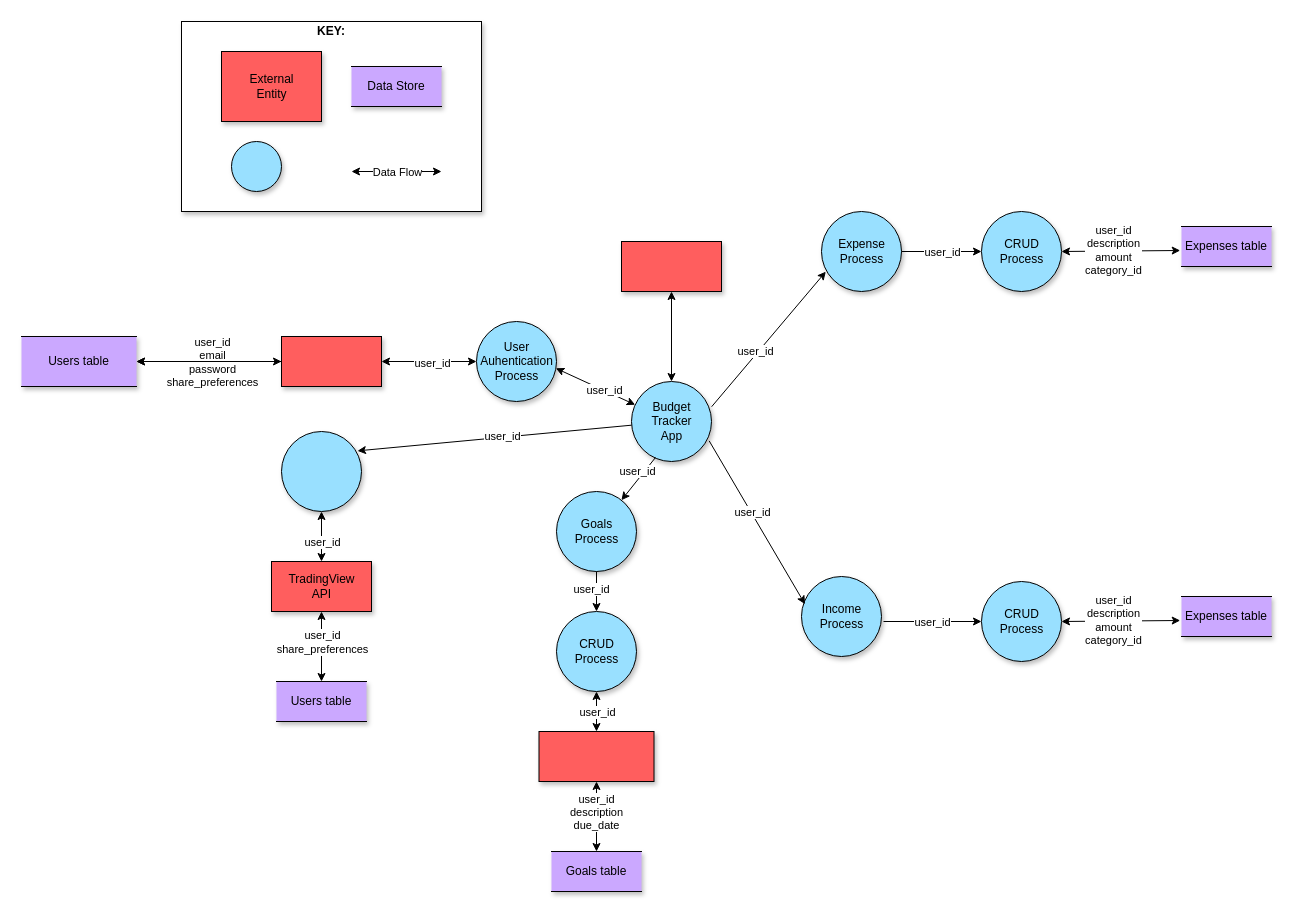
The diagram is 1295 pixels wide and 916 high, and some of its shapes have lost their labels. Each missing label, with the centre of its shape:
Auth0 authentication: point 332,363
Process: point 257,167
React-Beautiful-dnd: point 597,757
Shares Process: point 322,472
User: point 672,267
